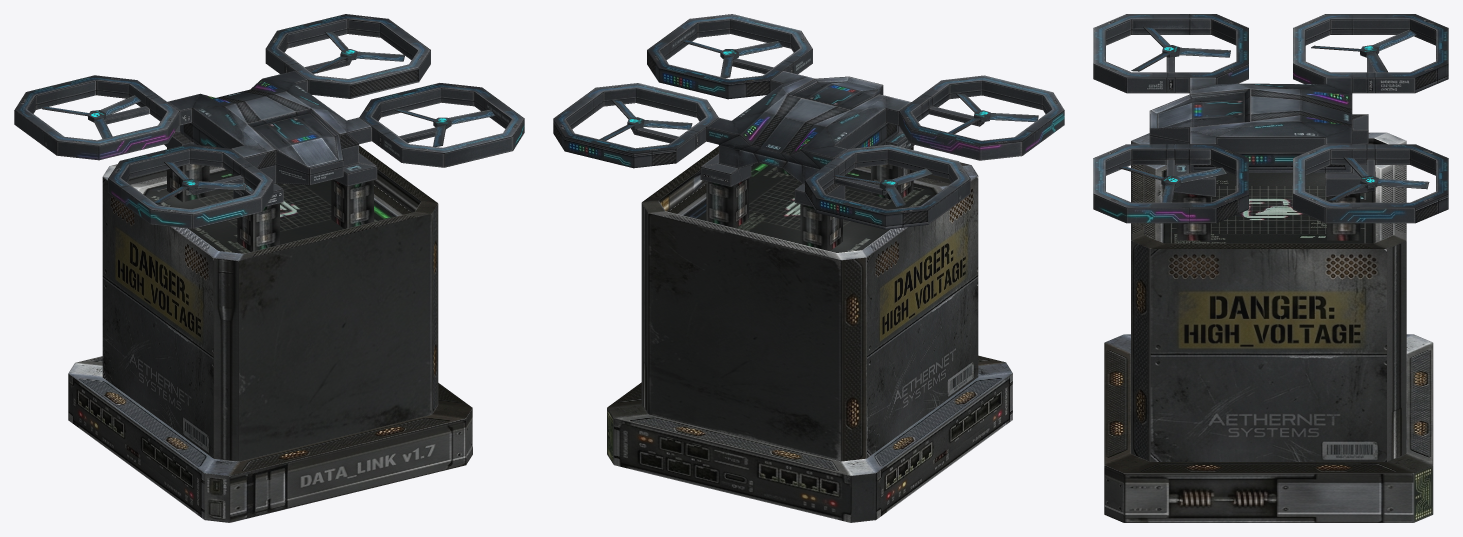
Rendered from dronechargingstationanimated.glb.
3 views of the same model, side by side, from view 1: azimuth 30°, elevation 25°; view 2: azimuth 150°, elevation 25°; view 3: azimuth 270°, elevation 25° (orthographic). The views are drawn at different scales.
Parts seen in each view (by area): view 1: DroneChargingStationBase.002, Drone.001, DroneRotor.007, DroneRotor.008, DroneRotor.005, DroneRotor.006; view 2: DroneChargingStationBase.002, Drone.001, DroneRotor.005, DroneRotor.006, DroneRotor.008, DroneRotor.007; view 3: DroneChargingStationBase.002, Drone.001, DroneRotor.006, DroneRotor.008, DroneRotor.005, DroneRotor.007.
Boxes of the visible parts, left/top/right/bottom form: DroneChargingStationBase.002: left=68, top=145, right=472, bottom=522; Drone.001: left=14, top=14, right=524, bottom=228; DroneRotor.007: left=42, top=95, right=140, bottom=138; DroneRotor.008: left=154, top=162, right=246, bottom=203; DroneRotor.005: left=393, top=108, right=495, bottom=146; DroneRotor.006: left=311, top=31, right=404, bottom=73; DroneChargingStationBase.002: left=607, top=146, right=1012, bottom=522; Drone.001: left=553, top=14, right=1064, bottom=229; DroneRotor.005: left=680, top=40, right=782, bottom=78; DroneRotor.006: left=599, top=100, right=692, bottom=140; DroneRotor.008: left=948, top=93, right=1038, bottom=133; DroneRotor.007: left=833, top=168, right=932, bottom=207; DroneChargingStationBase.002: left=1104, top=132, right=1433, bottom=522; Drone.001: left=1093, top=14, right=1448, bottom=223; DroneRotor.006: left=1328, top=157, right=1429, bottom=201; DroneRotor.008: left=1131, top=27, right=1230, bottom=71; DroneRotor.005: left=1119, top=166, right=1227, bottom=202; DroneRotor.007: left=1311, top=29, right=1416, bottom=72.
Size of the model in its own units: 2.39 by 2 by 1.85.
2 materials, 2 textured.
